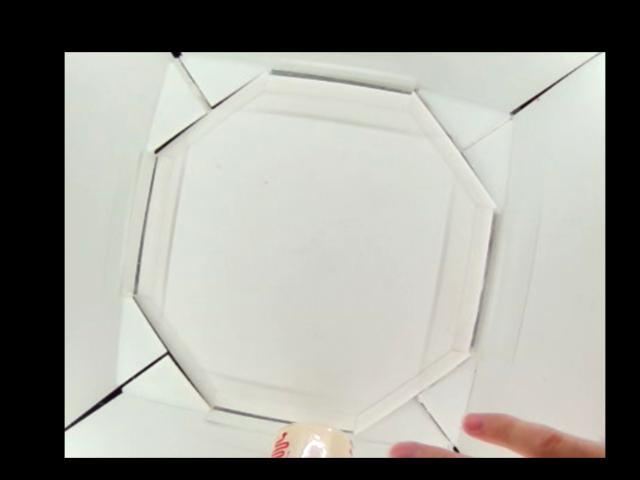Bottle: (272, 422, 355, 457)
